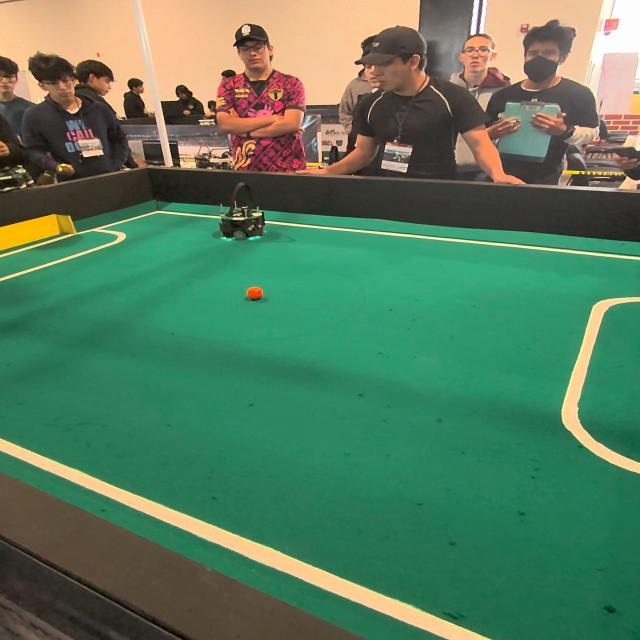Robot: (215, 180, 268, 248)
pelota: (246, 286, 264, 300)
